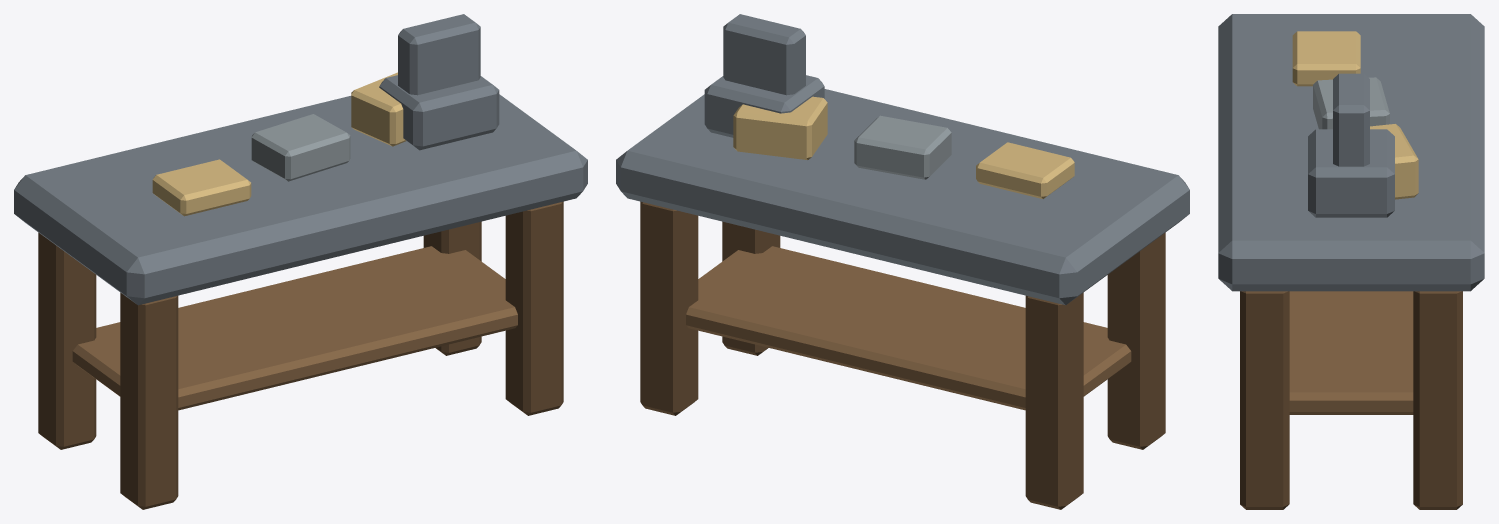
Rendered from town_workbench.glb.
3 renders of one model, left to right at view 1: azimuth 30°, elevation 25°; view 2: azimuth 150°, elevation 25°; view 3: azimuth 270°, elevation 25°, orthographic. The views are drawn at different scales.
Size of the model in its own units: 1.82 by 1.37 by 0.86.
